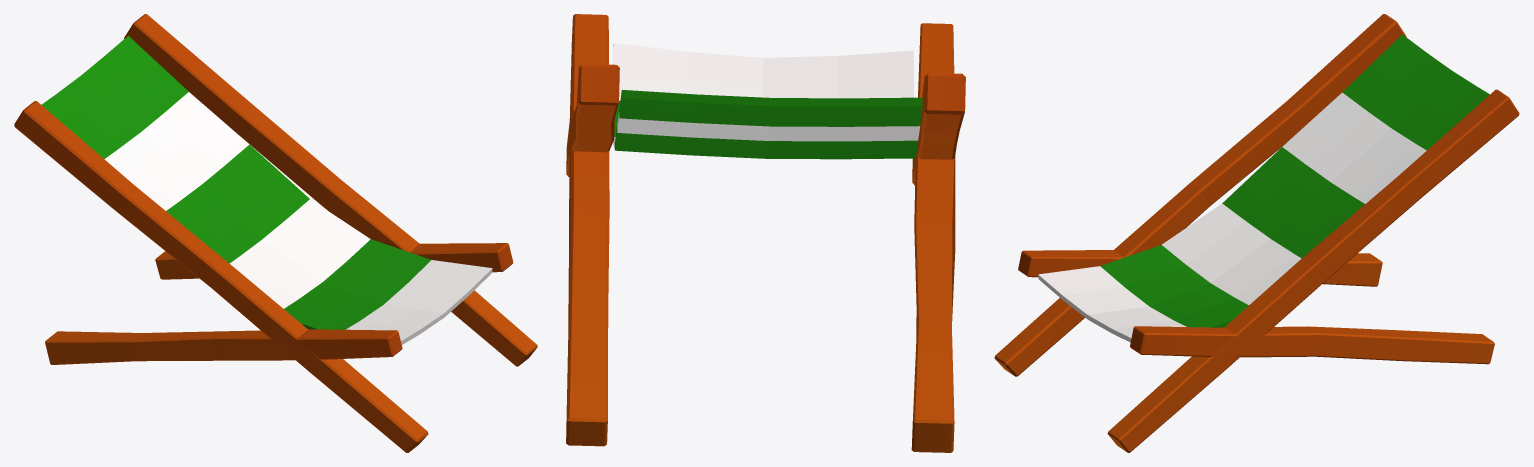
The model's file is BeachChair02.fbx.
The picture shows the model from 3 angles, left to right: view 1: azimuth 30°, elevation 25°; view 2: azimuth 150°, elevation 25°; view 3: azimuth 270°, elevation 25°; orthographic projection. The views are drawn at different scales.
Visible parts, largest first — view 1: BeachChair02_LOD0; view 2: BeachChair02_LOD0; view 3: BeachChair02_LOD0.
Part boxes in pixels (x1,y1,x2,y2): BeachChair02_LOD0: (14, 14, 537, 452); BeachChair02_LOD0: (566, 14, 965, 452); BeachChair02_LOD0: (994, 14, 1519, 452).
Size of what is drawn, in the model's own units: 127 by 81.73 by 146.
